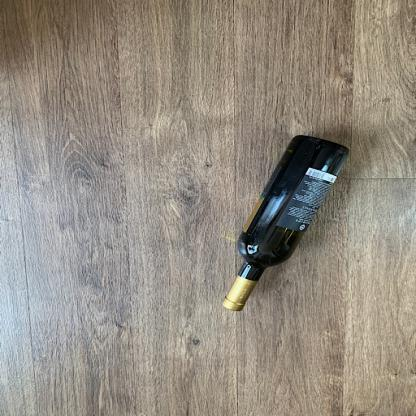trash: (222, 131, 349, 316)
